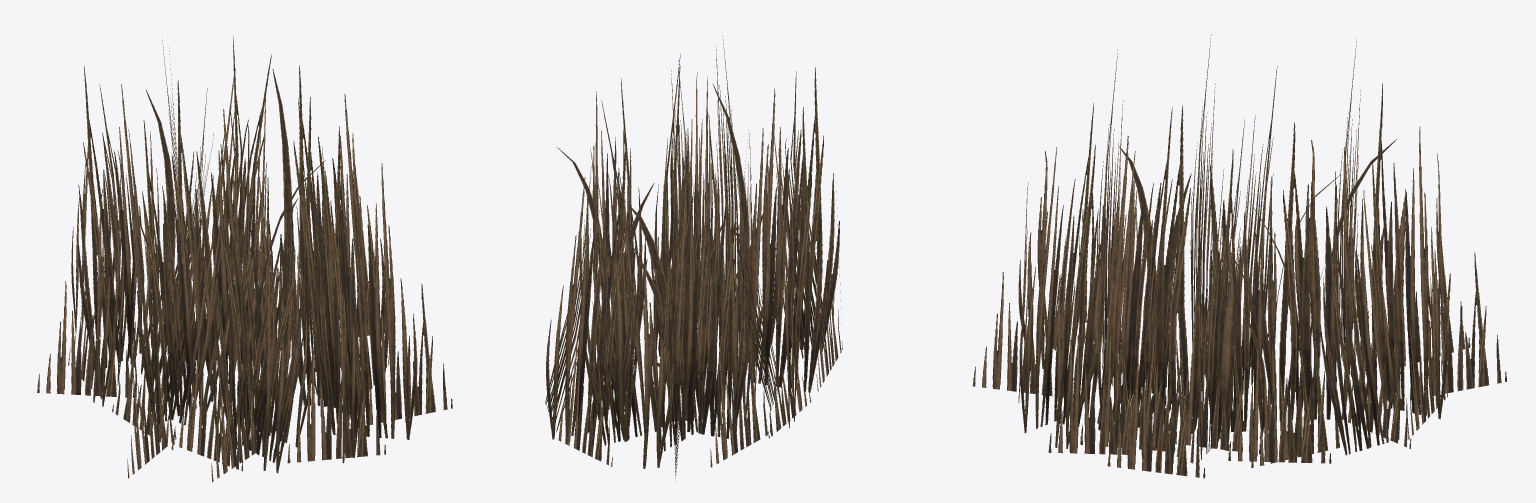
Rendered from SM_grass_clump_lrg_01.fbx.
3 renders of one model, left to right at view 1: azimuth 30°, elevation 25°; view 2: azimuth 150°, elevation 25°; view 3: azimuth 270°, elevation 25°, orthographic. The views are drawn at different scales.
Visible parts, largest first — view 1: SM_grass_clump_lrg_01_LOD0; view 2: SM_grass_clump_lrg_01_LOD0; view 3: SM_grass_clump_lrg_01_LOD0.
Part boxes in pixels (left/top/right/bottom): SM_grass_clump_lrg_01_LOD0: left=37, top=36, right=452, bottom=481; SM_grass_clump_lrg_01_LOD0: left=545, top=36, right=842, bottom=481; SM_grass_clump_lrg_01_LOD0: left=972, top=34, right=1506, bottom=478.
Bounding box in the file's own units: 50.39 × 64.04 × 50.82.
